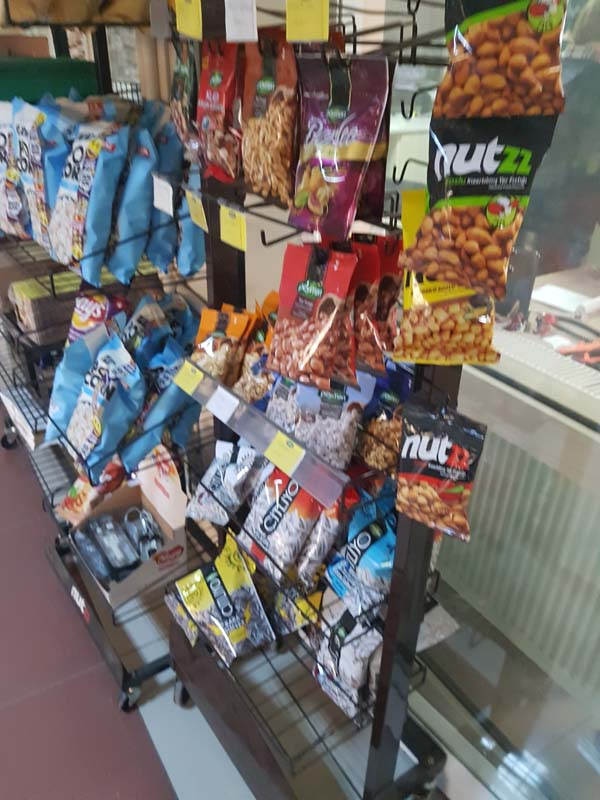citliyorklasik: (234, 464, 328, 585)
popcorn: (61, 337, 145, 504), (61, 119, 132, 289), (7, 99, 59, 243)
